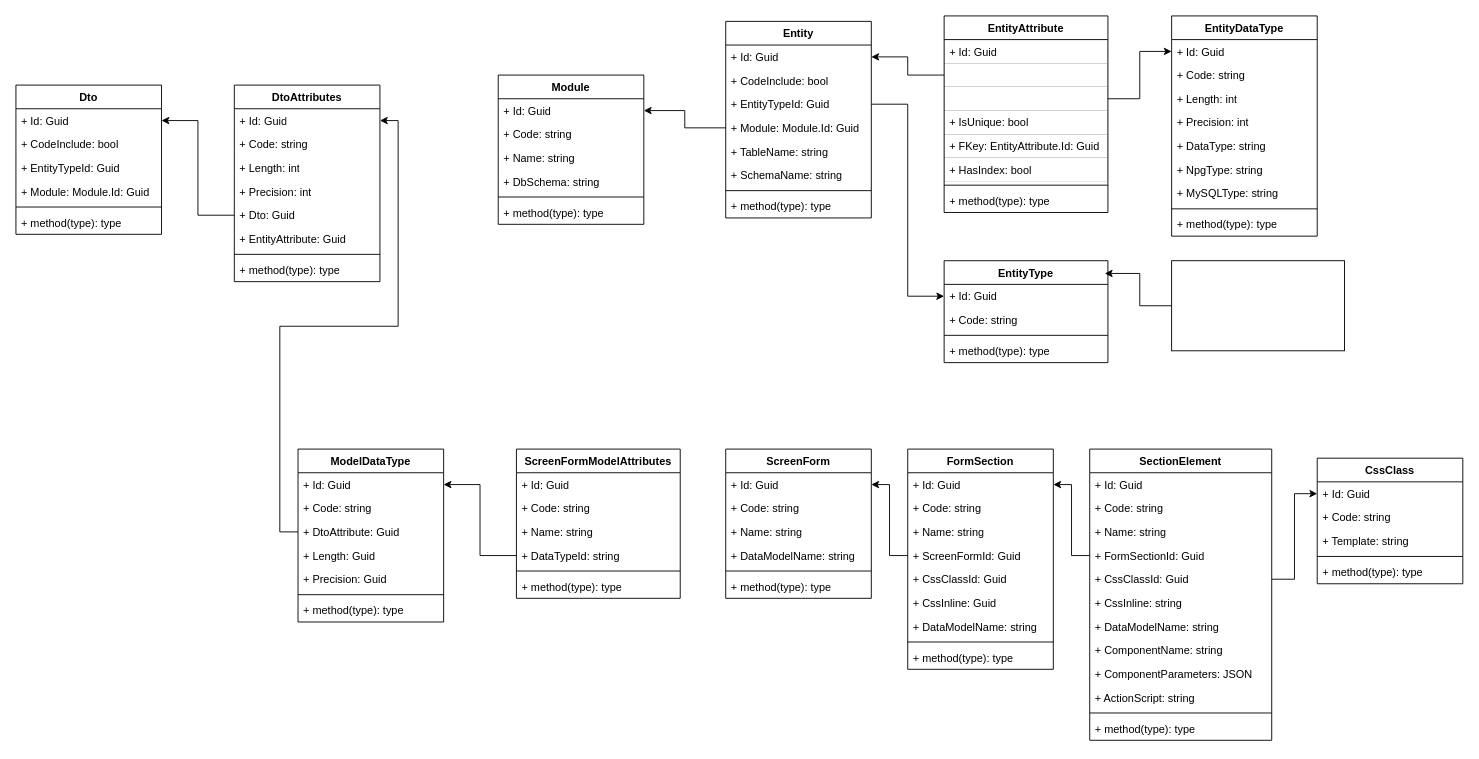
The diagram is 1479 pixels wide and 759 high, and some of its shapes have lost their labels. The centre of each missing label's shape, as x and y in pixels:
"+ DataTypeId: bool" goes at (x=1025, y=98).
"+ EntityId: Guid" goes at (x=1025, y=74).
"Simple Dictionary Tree Dictionary Simple Document Complex Document" goes at (x=1258, y=305).
